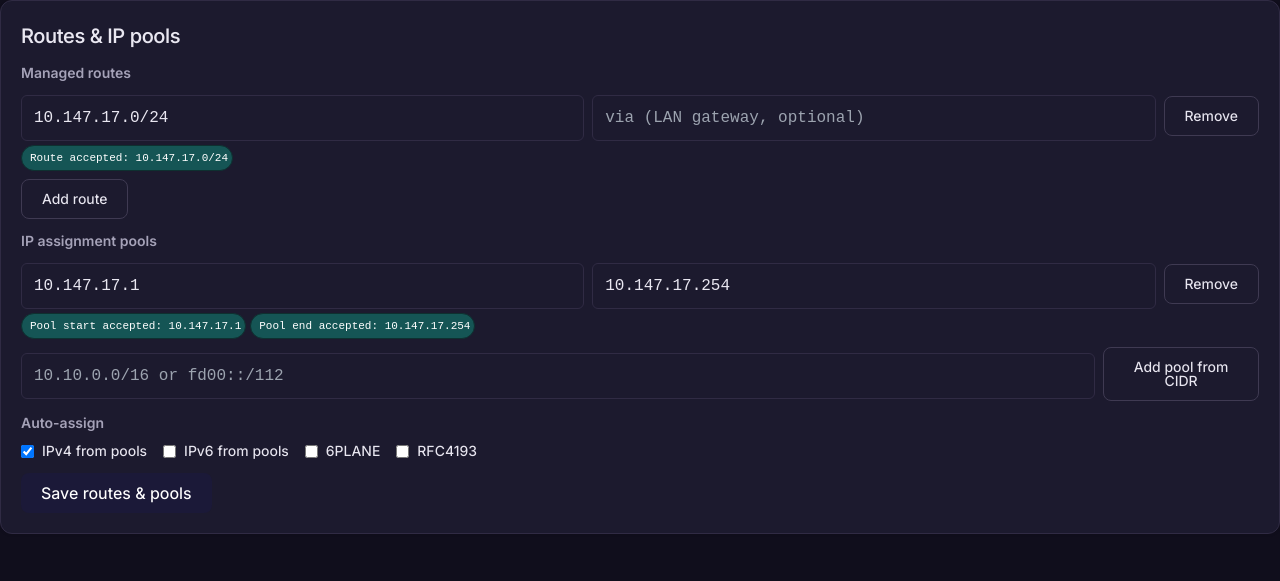
Test: RoutesEditor › shows accepted chips for valid route, pool, and CIDR helper fields
expect the field showing "10.147.17.0/24" is shown: met, box [21,95,584,141]
expect the text "Route accepted: 10.147.17.0/24" is shown: met, box [30,148,228,168]
Type "10.10.0.0/16" into the field with placeholder "10.10.0.0/16 or fd00::/112".
click(558, 376); type("10.10.0.0/16")  # box [21,353,1095,399]
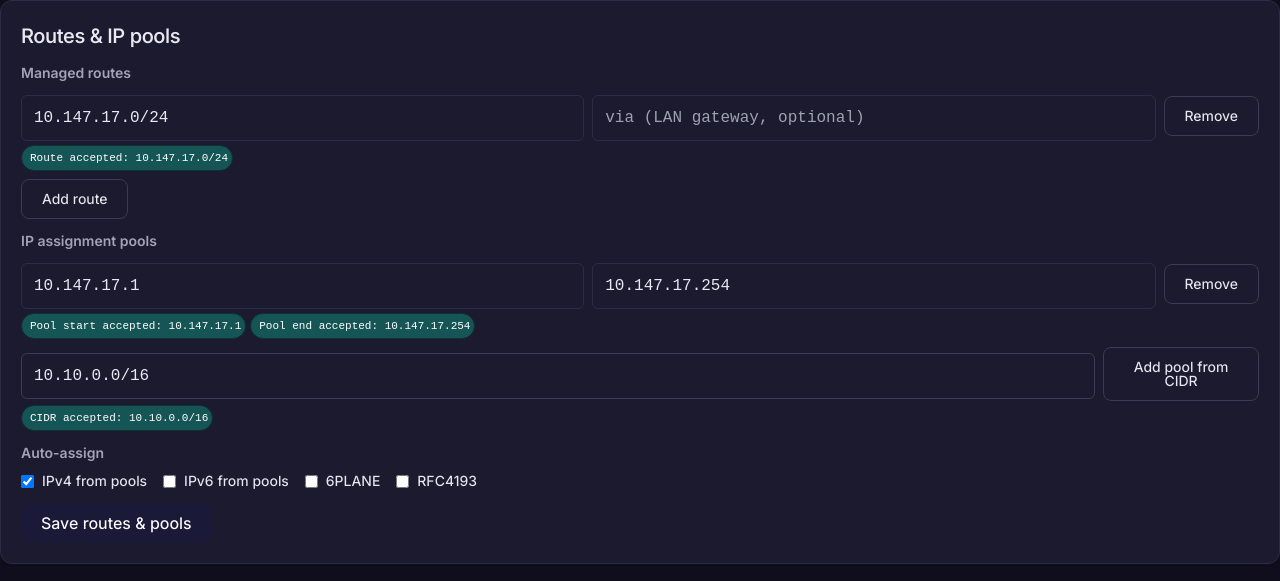
expect the text "CIDR accepted: 10.10.0.0/16" is shown: met, box [30,408,208,428]
